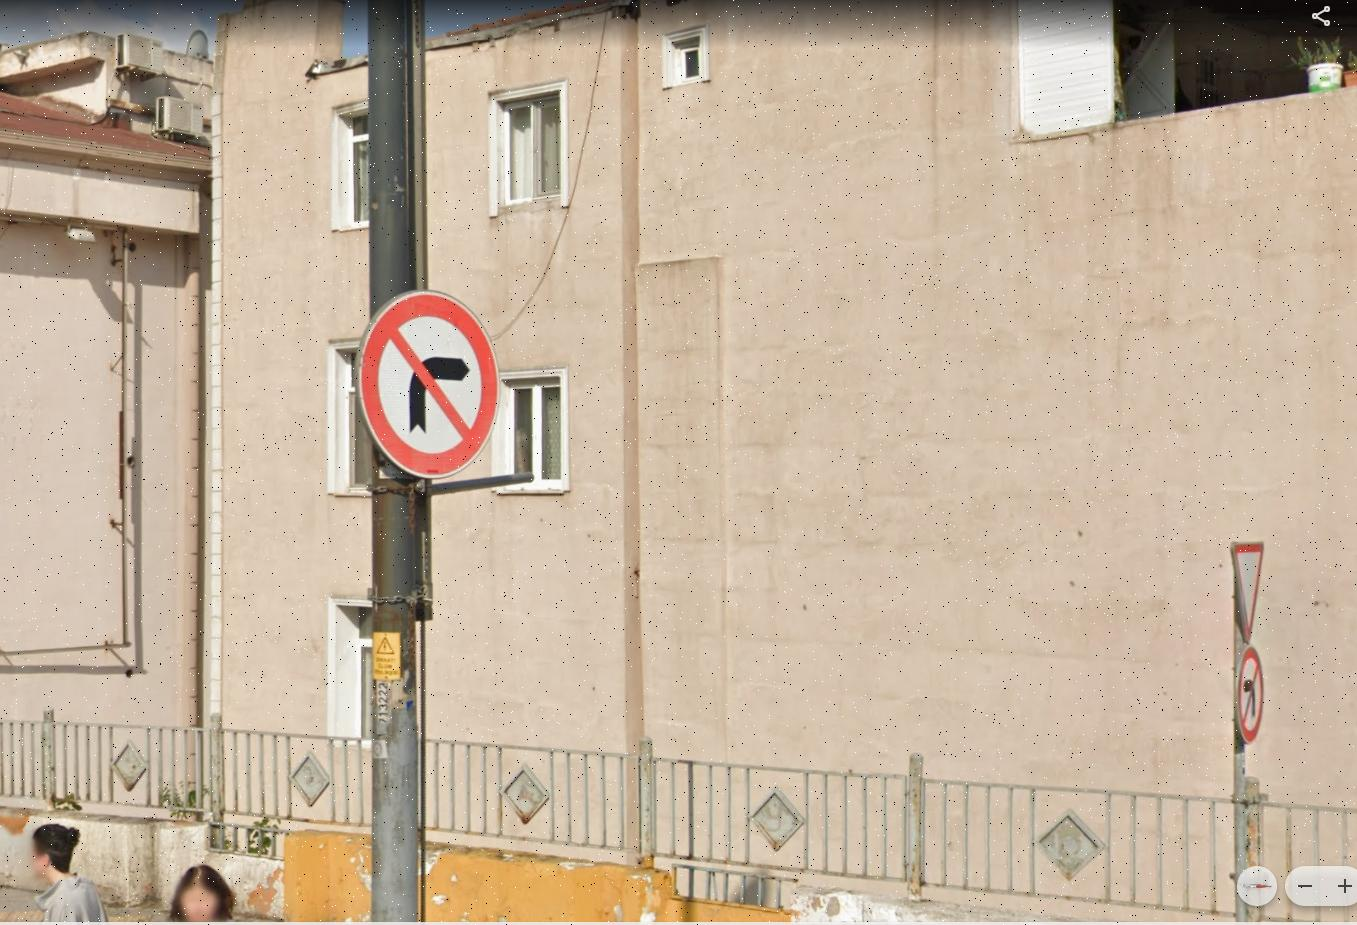rightturnsareforbidden: (367, 291, 495, 461)
